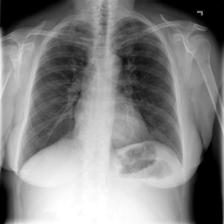normal: (15, 10, 186, 175)
